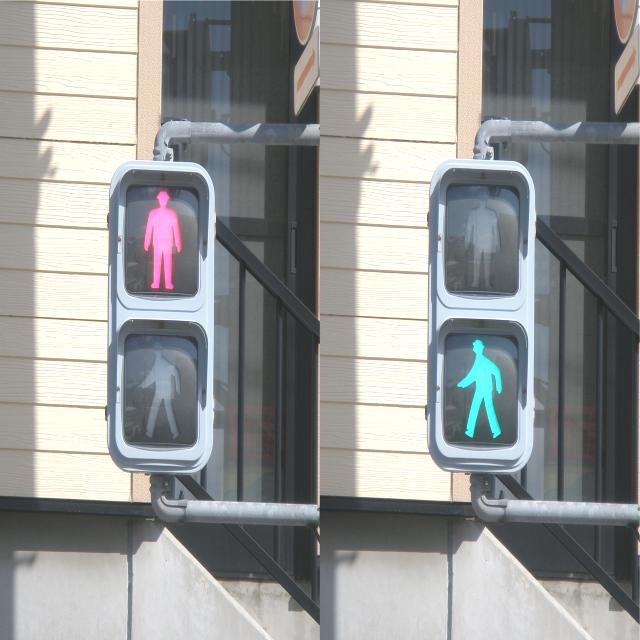trafficlight: (107, 160, 214, 474), (430, 156, 534, 475)
